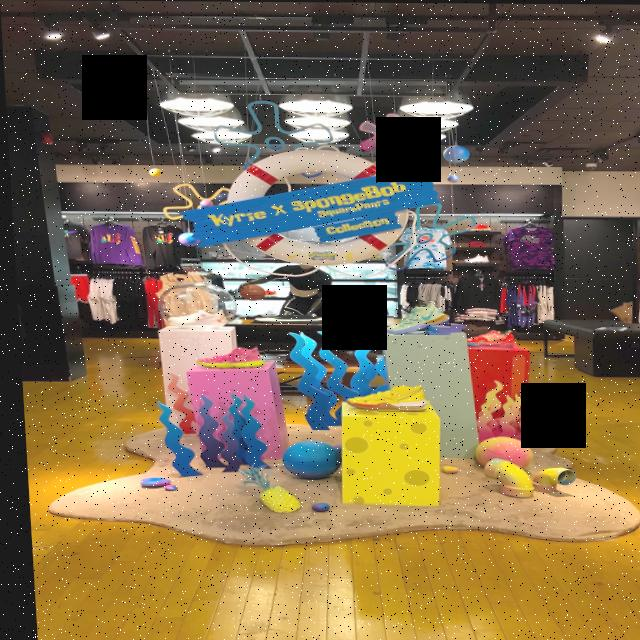shoe: (380, 299, 448, 335), (338, 385, 425, 412), (191, 345, 261, 369), (163, 307, 226, 326), (460, 329, 513, 348)
